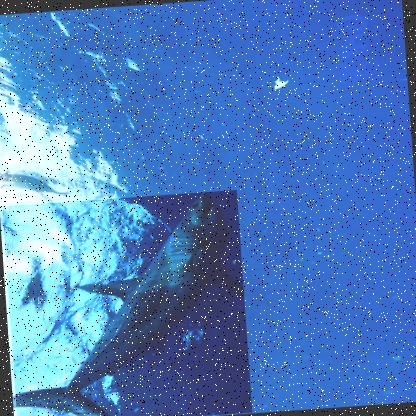mako-shark: (2, 189, 254, 415)
